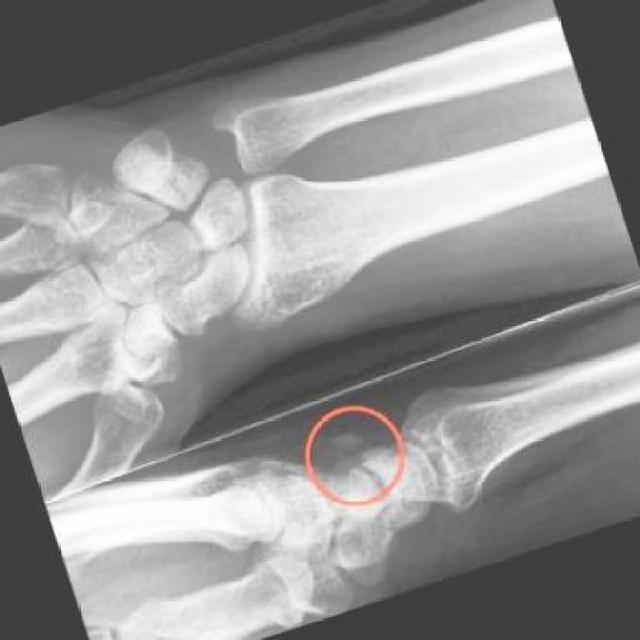bone: (120, 140, 188, 200), (315, 420, 377, 480)
